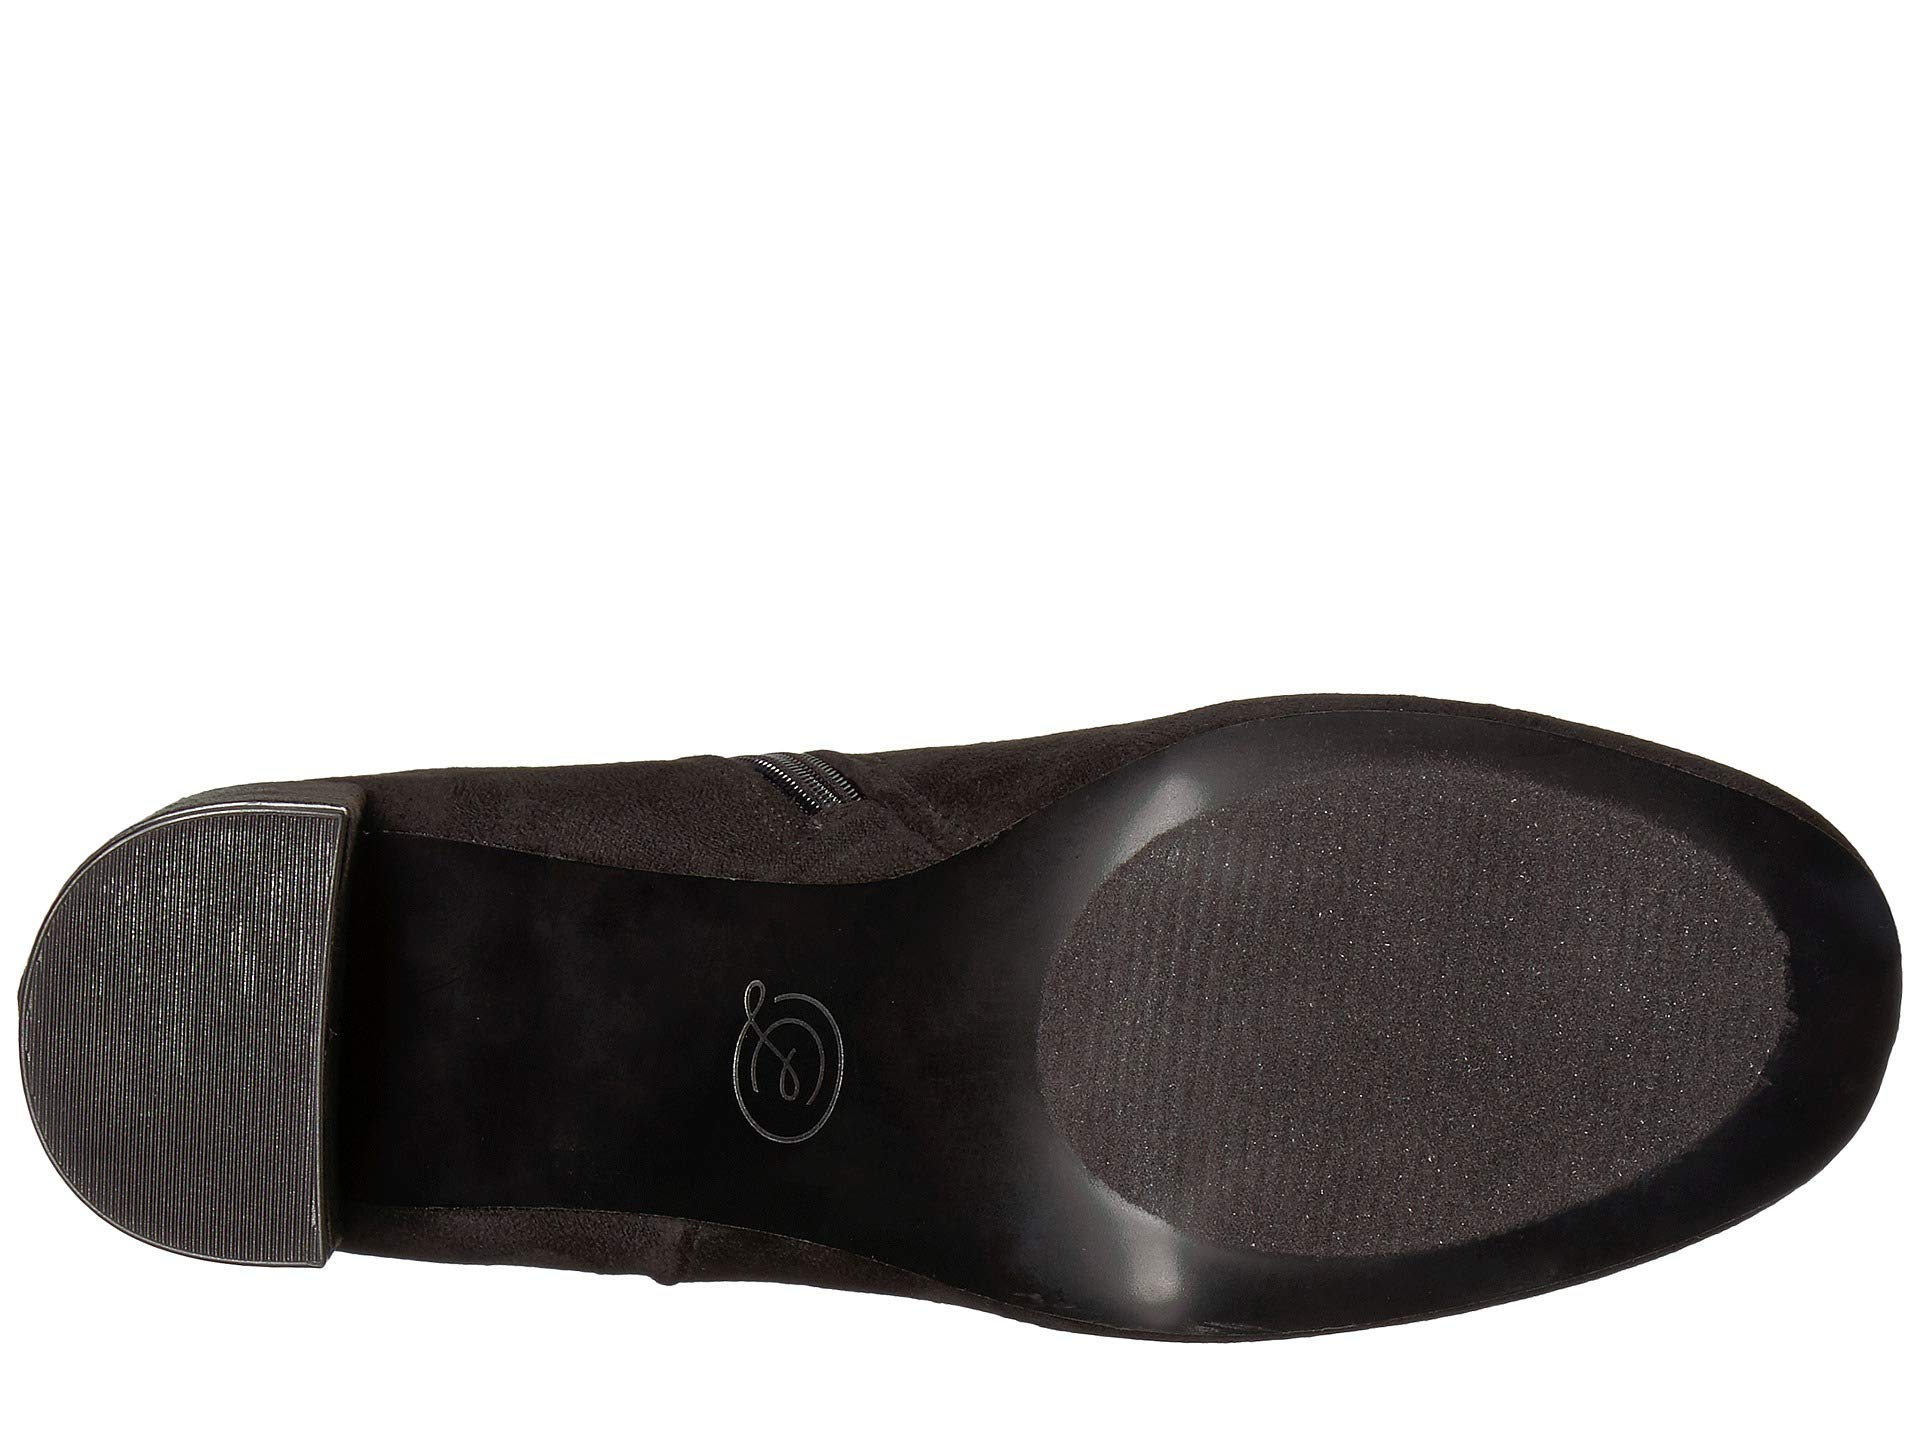line: (94, 894, 280, 1233), (1096, 858, 1222, 1151)
